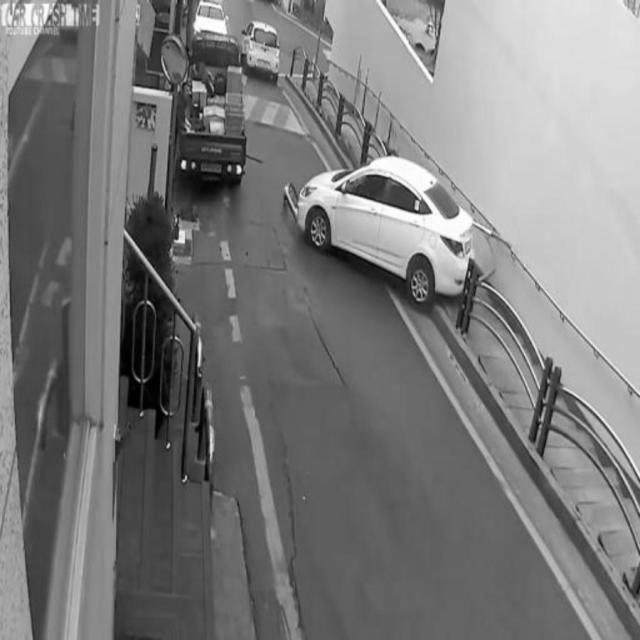vehicle: (285, 151, 473, 308), (178, 28, 248, 185), (241, 18, 282, 82)
